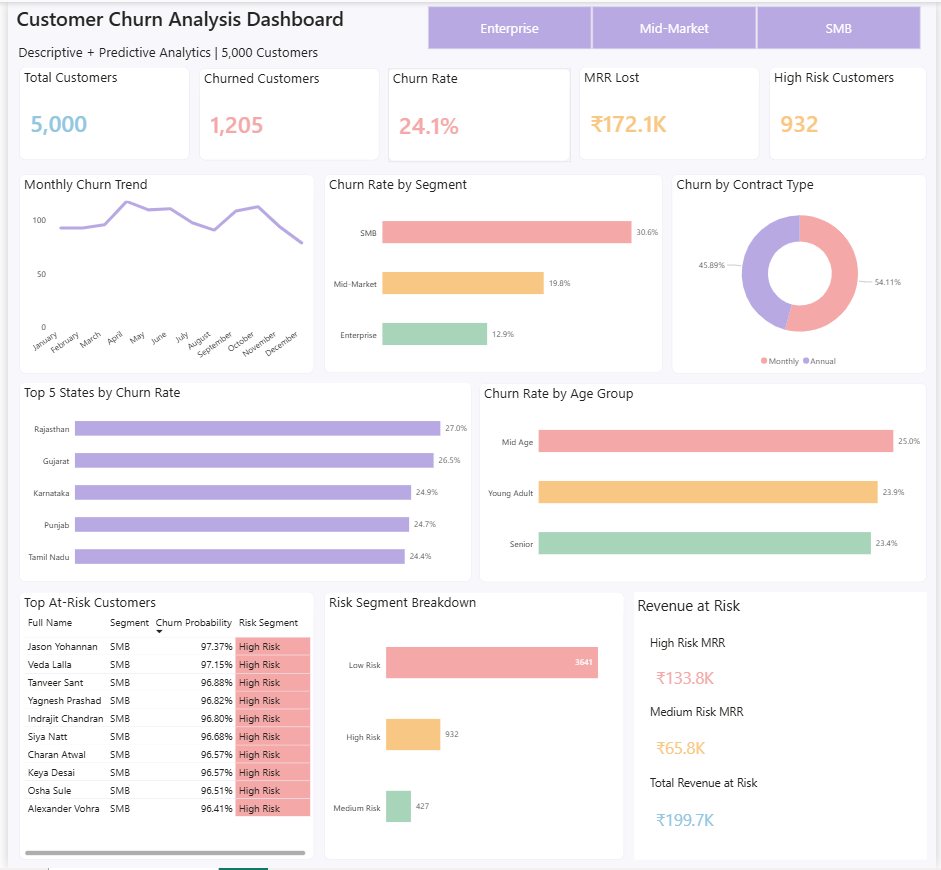

The dashboard page shown, as its layout file describes it:
{"tool":"powerbi","page":{"name":"Churn Dashboard","canvas":[1500,1400],"ordinal":0},"visuals":[{"type":"textbox","box":[0,0,677,60.6],"z":0},{"type":"textbox","box":[0,60.6,955.8,44.5],"z":1000},{"type":"cardVisual","title":"Total Customers","fields":{"Data":["Measure Table.Total Customers"]},"box":[19.1,105.7,275.4,150.7],"z":2000},{"type":"cardVisual","title":"Churned Customers","fields":{"Data":["Measure Table.Total Churned"]},"box":[309.2,107.4,291,149],"z":3000},{"type":"cardVisual","title":"Churn Rate","fields":{"Data":["Measure Table.Churn Rate %"]},"box":[614.9,107.4,294.5,150.7],"z":4000},{"type":"cardVisual","title":"MRR Lost","fields":{"Data":["Measure Table.MRR Lost"]},"box":[924.1,105.7,291,150.7],"z":5000},{"type":"cardVisual","title":"High Risk Customers","fields":{"Data":["Measure Table.High Risk Count"]},"box":[1229.8,105.7,254.6,150.7],"z":6000},{"type":"lineChart","title":"Monthly Churn Trend","fields":{"Category":["Contracts.churn_date.Variation.Date Hierarchy.Month"],"Y":["Measure Table.Total Churned"]},"box":[18.2,278.9,476.9,321.3],"z":7000},{"type":"clusteredBarChart","title":"Churn Rate by Segment","fields":{"Category":["Customers.segment"],"Y":["Measure Table.Churn Rate %"]},"box":[511,278.9,547.3,320.4],"z":8000},{"type":"donutChart","title":"Churn by Contract Type","fields":{"Y":["Measure Table.Churn Rate %"],"Category":["Contracts.contract_type"]},"box":[1073,278.9,412.2,321.3],"z":9000},{"type":"clusteredBarChart","title":"Top 5 States by Churn Rate","fields":{"Y":["Measure Table.Churn Rate %"],"Category":["Customers.state"]},"box":[18.2,614.3,731.5,323.3],"z":10000},{"type":"clusteredBarChart","title":"Churn Rate by Age Group","fields":{"Category":["Customers.Age Group"],"Y":["Measure Table.Churn Rate %"]},"box":[761.8,616.3,723.4,321.3],"z":11000},{"type":"clusteredBarChart","title":"Risk Segment Breakdown","fields":{"Category":["Predictions.risk_segment"],"Y":["Measure Table.Customer Count by Risk"]},"box":[511.3,953.8,485,432.4],"z":12000},{"type":"textbox","box":[1012.4,953.8,472.9,432.4],"z":13000},{"type":"cardVisual","title":"High Risk MRR","fields":{"Data":["Measure Table.High Risk MRR"]},"box":[1030.6,1022.5,436.5,111.1],"z":14000},{"type":"cardVisual","title":"Medium Risk MRR","fields":{"Data":["Measure Table.Medium Risk MRR"]},"box":[1030.6,1133.7,436.5,115.2],"z":15000},{"type":"cardVisual","title":"Total Revenue at Risk","fields":{"Data":["Measure Table.Total Revenue at Risk"]},"box":[1030.6,1248.9,436.5,117.2],"z":16000},{"type":"tableEx","title":"Top At-Risk Customers","fields":{"Values":["Customers.full_name","Customers.segment","Sum(Predictions.churn_probability)","Predictions.risk_segment"]},"box":[18.2,953.8,476.9,432.4],"z":17000},{"type":"slicer","fields":{"Values":["Customers.Segment"]},"box":[652.7,0,846.7,82.9],"z":18000}]}

Visuals, with their boxes in screenshot pixels (x1, y1, x2, y2), scaled from the page's 1500x1400 canvas onto the 941x870 screenshot:
textbox: select_region(0, 0, 425, 38)
textbox: select_region(0, 38, 600, 65)
"Total Customers" cardVisual: select_region(12, 66, 185, 159)
"Churned Customers" cardVisual: select_region(194, 67, 377, 159)
"Churn Rate" cardVisual: select_region(386, 67, 570, 160)
"MRR Lost" cardVisual: select_region(580, 66, 762, 159)
"High Risk Customers" cardVisual: select_region(771, 66, 931, 159)
"Monthly Churn Trend" lineChart: select_region(11, 173, 311, 373)
"Churn Rate by Segment" clusteredBarChart: select_region(321, 173, 664, 372)
"Churn by Contract Type" donutChart: select_region(673, 173, 932, 373)
"Top 5 States by Churn Rate" clusteredBarChart: select_region(11, 382, 470, 583)
"Churn Rate by Age Group" clusteredBarChart: select_region(478, 383, 932, 583)
"Risk Segment Breakdown" clusteredBarChart: select_region(321, 593, 625, 861)
textbox: select_region(635, 593, 932, 861)
"High Risk MRR" cardVisual: select_region(647, 635, 920, 704)
"Medium Risk MRR" cardVisual: select_region(647, 705, 920, 776)
"Total Revenue at Risk" cardVisual: select_region(647, 776, 920, 849)
"Top At-Risk Customers" tableEx: select_region(11, 593, 311, 861)
slicer - Customers.Segment: select_region(409, 0, 940, 52)
